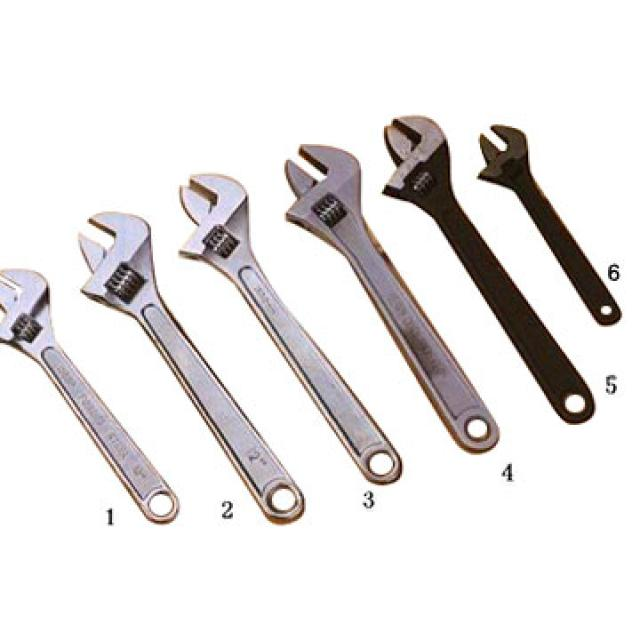wrench: (260, 123, 423, 303), (57, 200, 204, 388), (0, 245, 94, 516), (158, 158, 288, 331), (467, 116, 588, 244), (368, 100, 478, 228)
